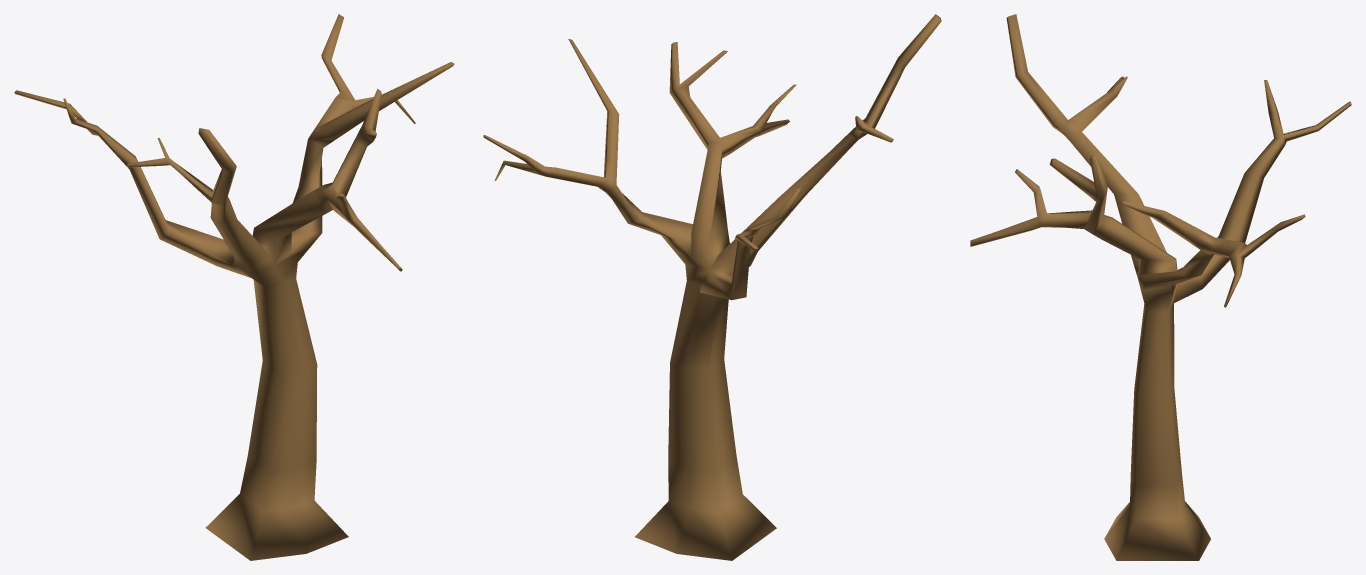
3 renders of one model, left to right at view 1: azimuth 30°, elevation 25°; view 2: azimuth 150°, elevation 25°; view 3: azimuth 270°, elevation 25°, orthographic. The views are drawn at different scales.
Parts seen in each view (by area): view 1: Cube.019; view 2: Cube.019; view 3: Cube.019.
Boxes of the visible parts, x1,y1,x2,y2 form: Cube.019: (14, 14, 454, 560); Cube.019: (483, 14, 941, 560); Cube.019: (970, 14, 1351, 560).
Bounding box in the file's own units: 189 × 261 × 198.
